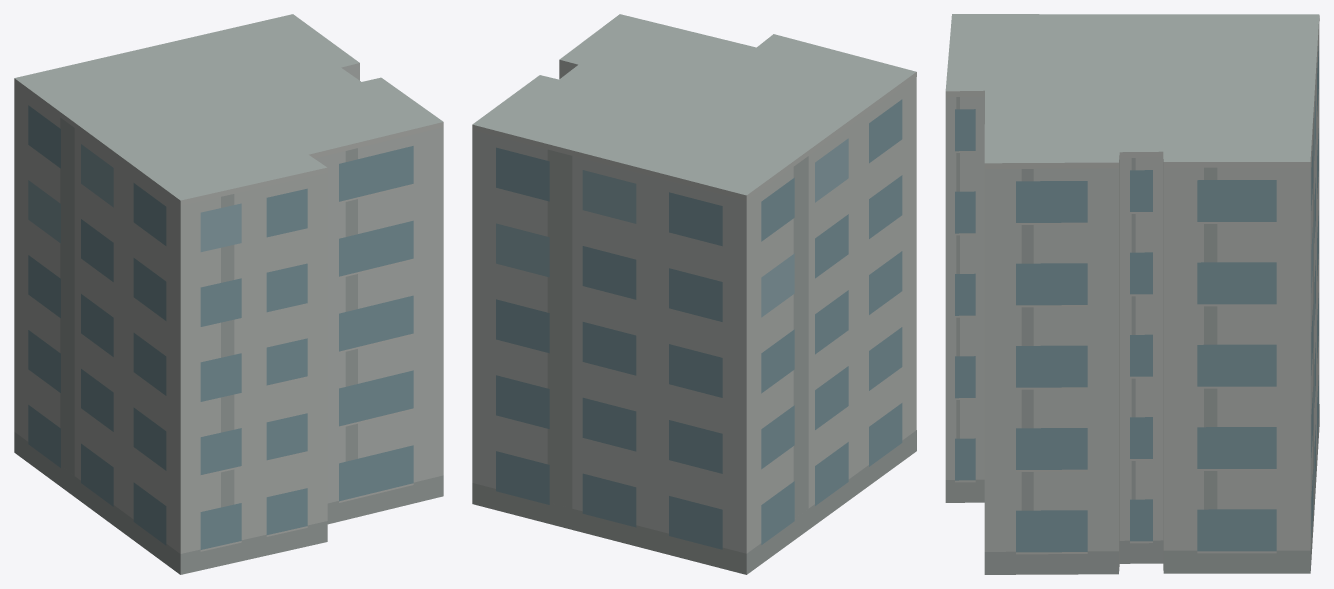
The model's file is survey-upis-32775652.glb.
The picture shows the model from 3 angles, left to right: view 1: azimuth 30°, elevation 25°; view 2: azimuth 150°, elevation 25°; view 3: azimuth 270°, elevation 25°; orthographic projection. The views are drawn at different scales.
Parts seen in each view (by area): view 1: survey-upis-32775652.tmp; view 2: survey-upis-32775652.tmp; view 3: survey-upis-32775652.tmp.
Boxes of the visible parts, <box> form: survey-upis-32775652.tmp: <box>14,14,443,574</box>; survey-upis-32775652.tmp: <box>472,14,916,574</box>; survey-upis-32775652.tmp: <box>945,14,1319,574</box>.
Size of the model in its own units: 13.3 by 17.1 by 14.08.
